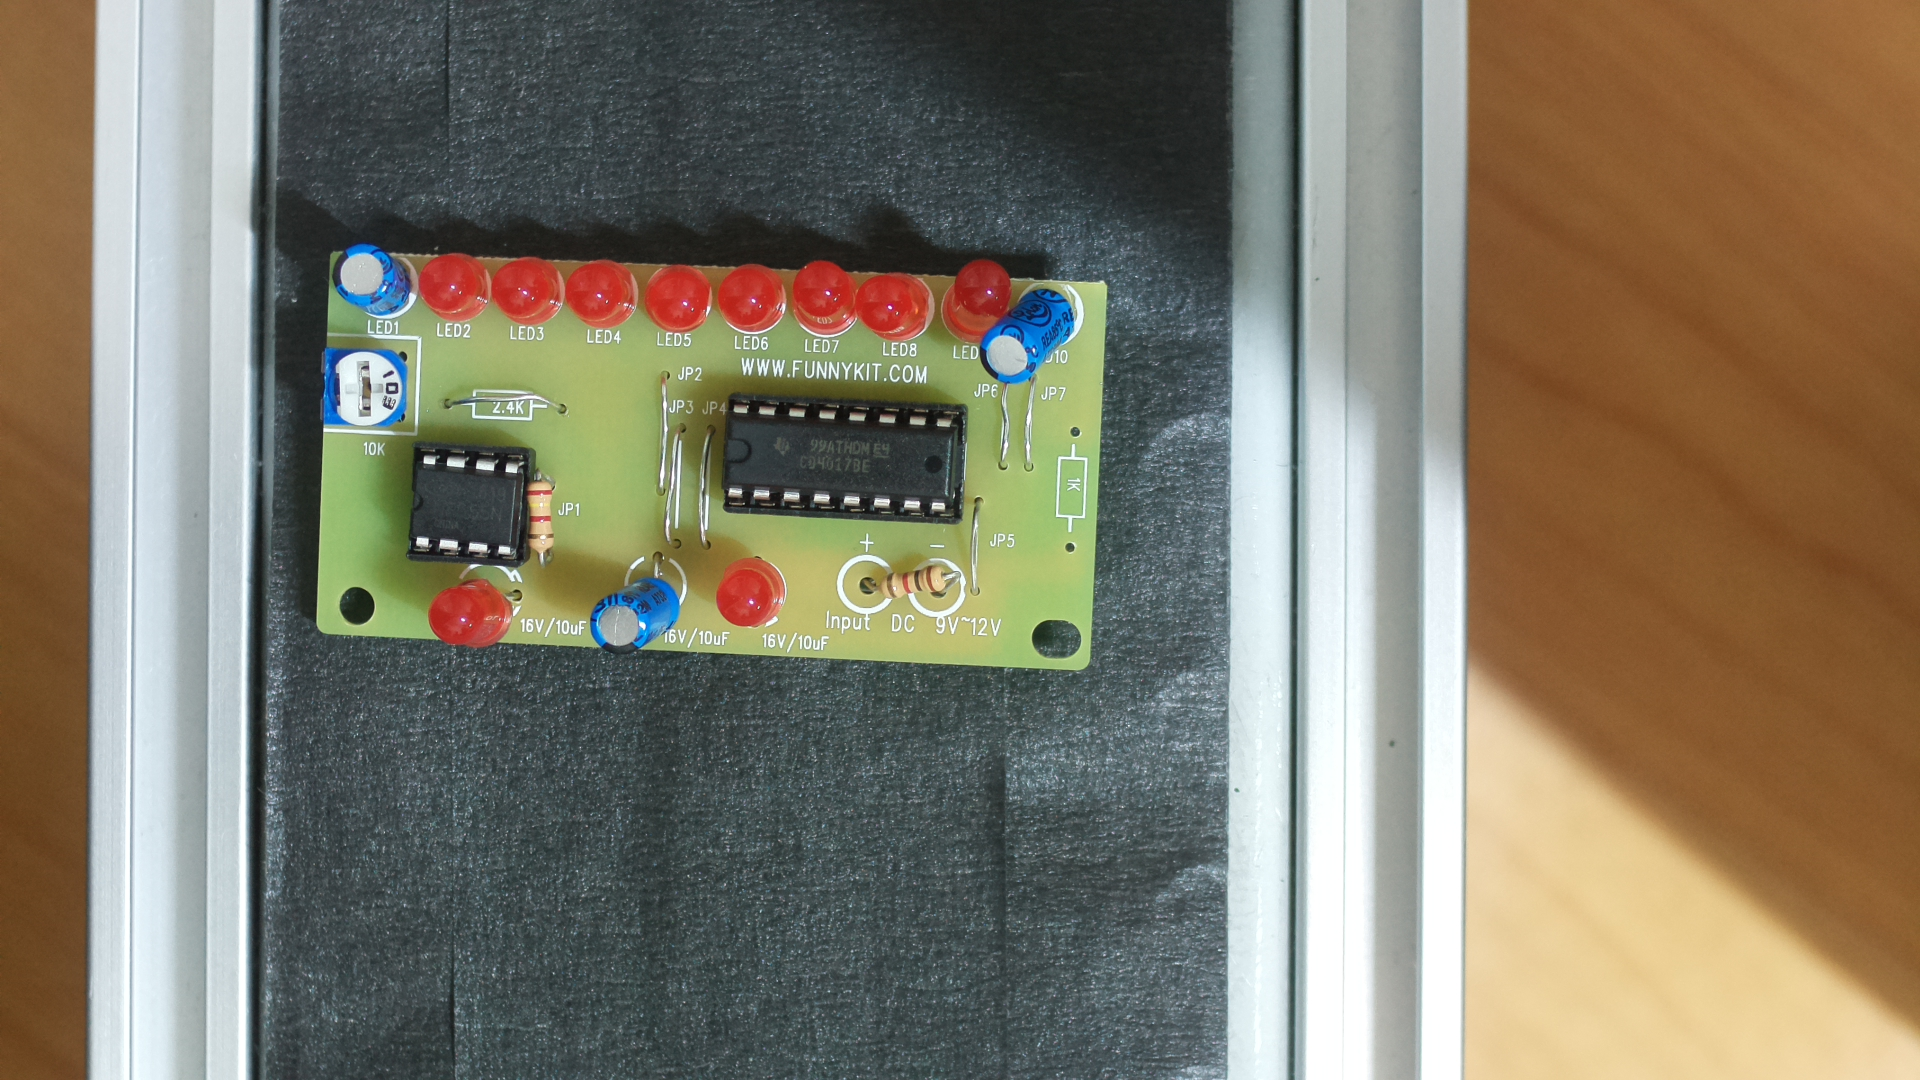B_Misordered: (308, 216, 1122, 711)
